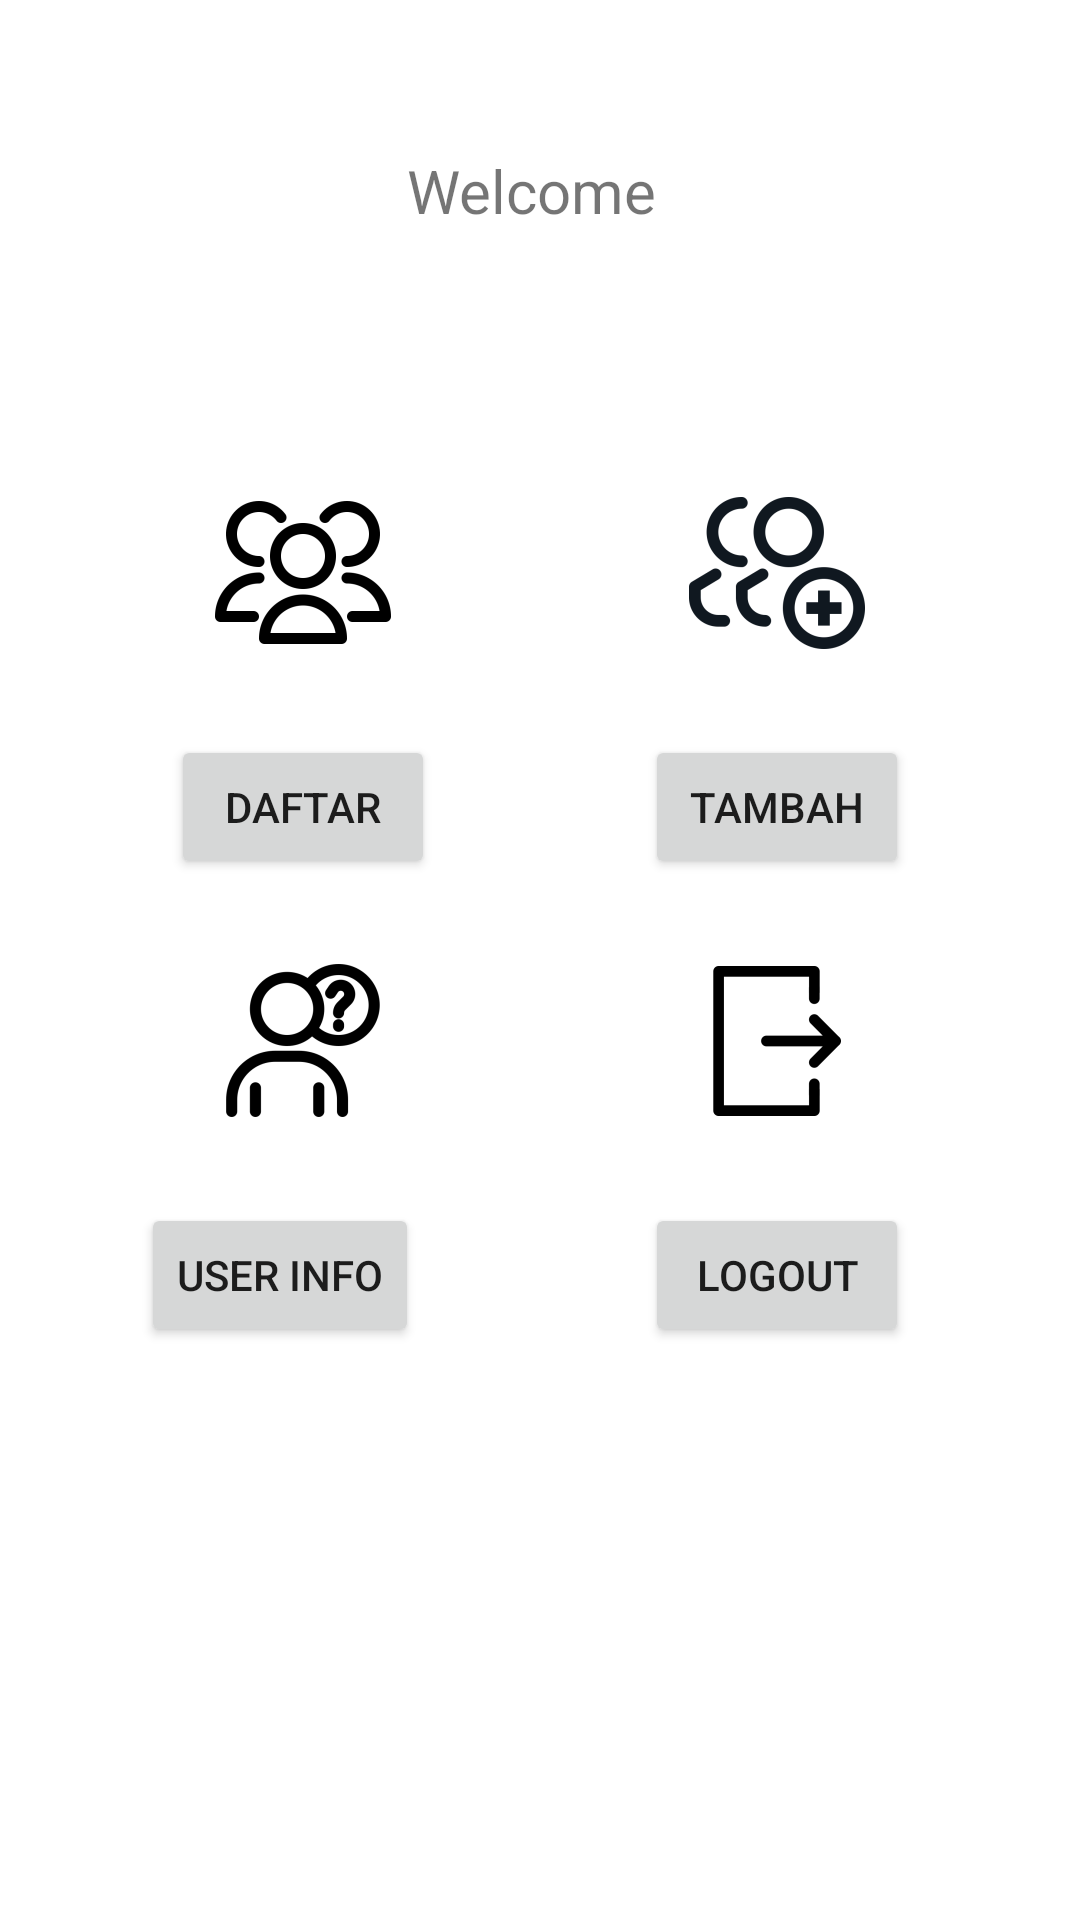

Icon click points for this 1080px×1920px phone screenshot, format point (x, y):
people: point (303, 572)
people add: point (777, 573)
